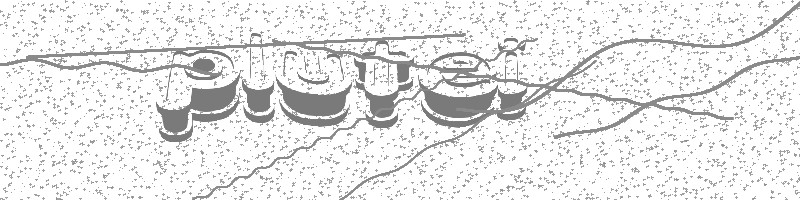e: (416, 48, 497, 129)
i: (495, 34, 530, 121)
l: (242, 29, 278, 125)
p: (154, 46, 242, 145)
t: (351, 36, 417, 132)
u: (274, 46, 354, 131)
